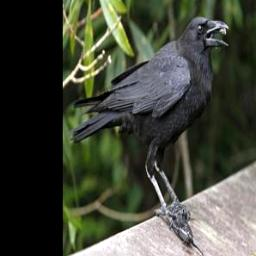Crow: (70, 15, 230, 231)
